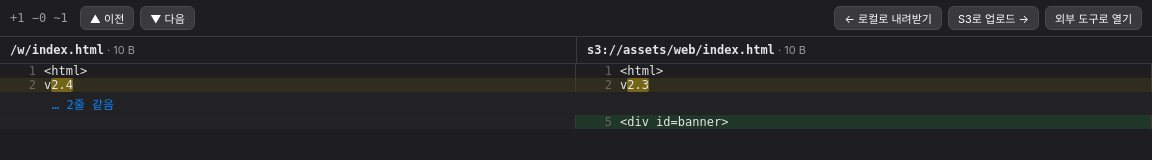
renders side-by-side rows with emphasis, stats and expands collapsed rows
The image size is (1152, 160).
Expected: the text "+1 −0 ~1" is shown, [10, 11, 68, 25]
Expected: the text "/w/index.html" is shown, [10, 43, 104, 57]
Click the button "… 2줄 같음": [83, 104] box [52, 95, 114, 112]
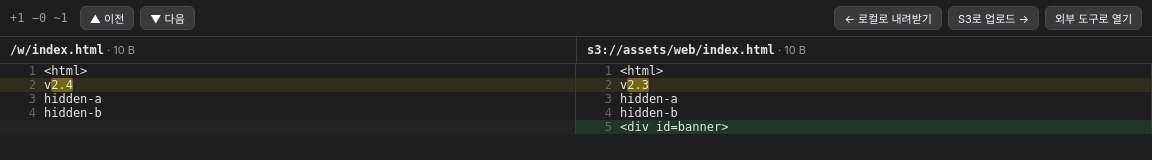
Expected: the text "hidden-a" is shown 2 times, [44, 92, 102, 106]; [620, 92, 678, 106]
